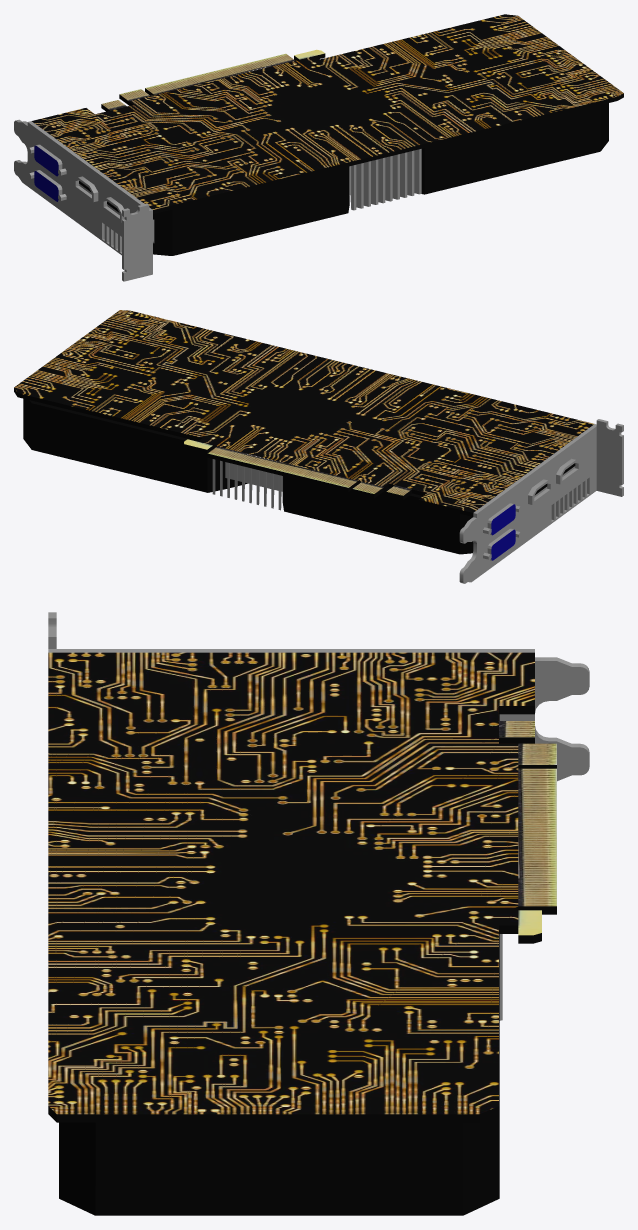
File: Video.fbx
The picture shows the model from 3 angles, top to bottom: view 1: azimuth 30°, elevation 25°; view 2: azimuth 150°, elevation 25°; view 3: azimuth 270°, elevation 25°; orthographic projection. The views are drawn at different scales.
Visible parts, largest first — view 1: Plane.050, Plane.056, Plane.058, Plane.055; view 2: Plane.050, Plane.056, Plane.055, Plane.058, Plane.057; view 3: Plane.050, Plane.056.
Part boxes in pixels (x1,y1,x2,y2): Plane.050: (14,14,623,281); Plane.056: (153,103,608,255); Plane.058: (350,149,421,210); Plane.055: (28,144,124,222); Plane.050: (14,310,623,583); Plane.056: (23,398,473,554); Plane.055: (483,458,580,560); Plane.058: (212,459,281,510); Plane.057: (225,462,282,491); Plane.050: (48,612,589,1122); Plane.056: (59,714,499,1215).
Bounding box in the file's own units: 0.2716 × 0.0364 × 0.1267.
